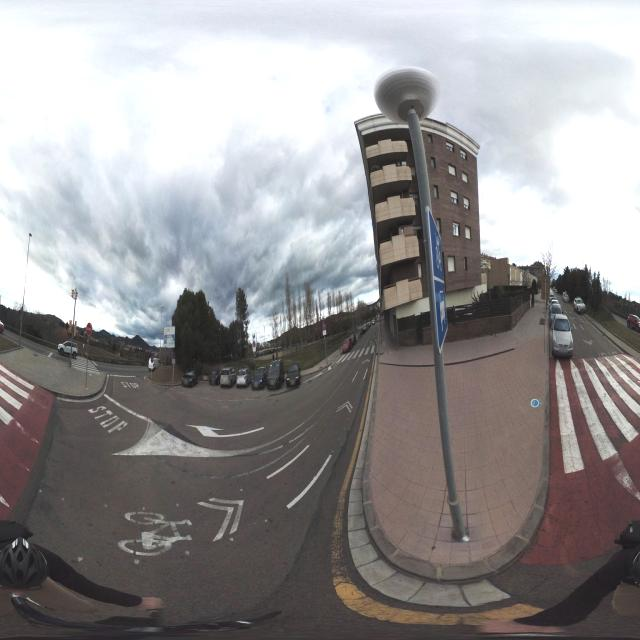car: (549, 314, 574, 360), (268, 359, 302, 390), (219, 366, 237, 388), (251, 367, 268, 390), (58, 341, 78, 357), (181, 368, 197, 388), (236, 368, 251, 387), (341, 334, 356, 352), (627, 313, 640, 332), (209, 366, 220, 386), (574, 296, 586, 314), (549, 298, 560, 312)
